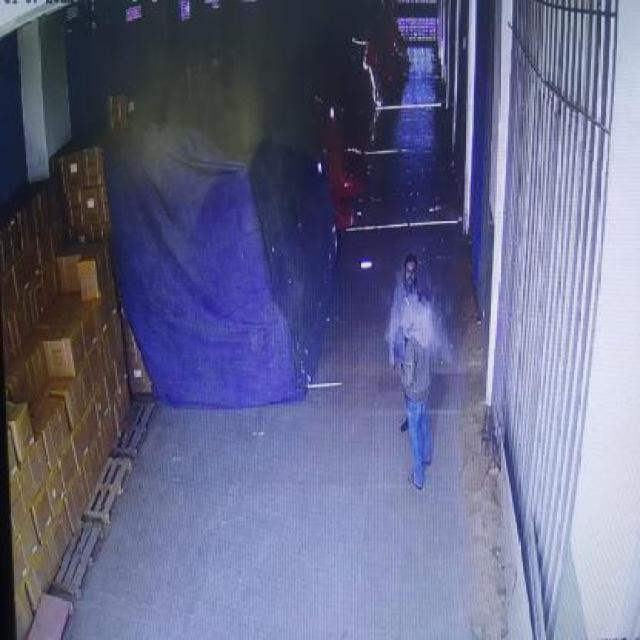fire: (389, 279, 454, 359)
